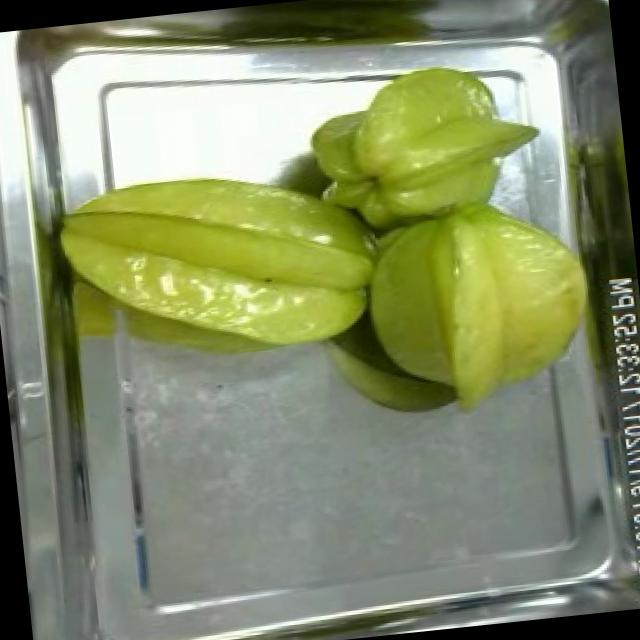fruit: (38, 142, 398, 382), (343, 180, 609, 432), (292, 48, 556, 250)
